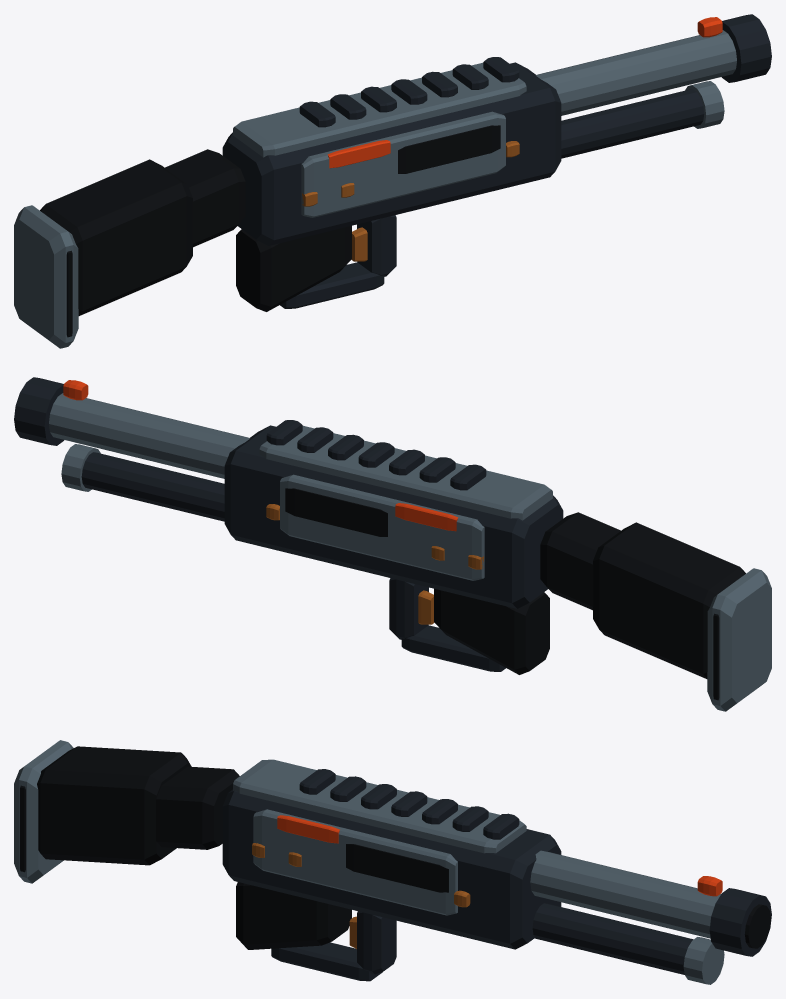
File: BreachShotgun.obj
3 renders of one model, top to bottom at view 1: azimuth 30°, elevation 25°; view 2: azimuth 150°, elevation 25°; view 3: azimuth 330°, elevation 25°, orthographic.
Visible parts, largest first — view 1: BreachShotgun; view 2: BreachShotgun; view 3: BreachShotgun.
Boxes of the visible parts, box(x1,y1,x2,y2) form: BreachShotgun: box(14, 14, 771, 348); BreachShotgun: box(14, 377, 771, 711); BreachShotgun: box(14, 740, 771, 984).
Bounding box in the file's own units: 119 × 29.1 × 15.31.
